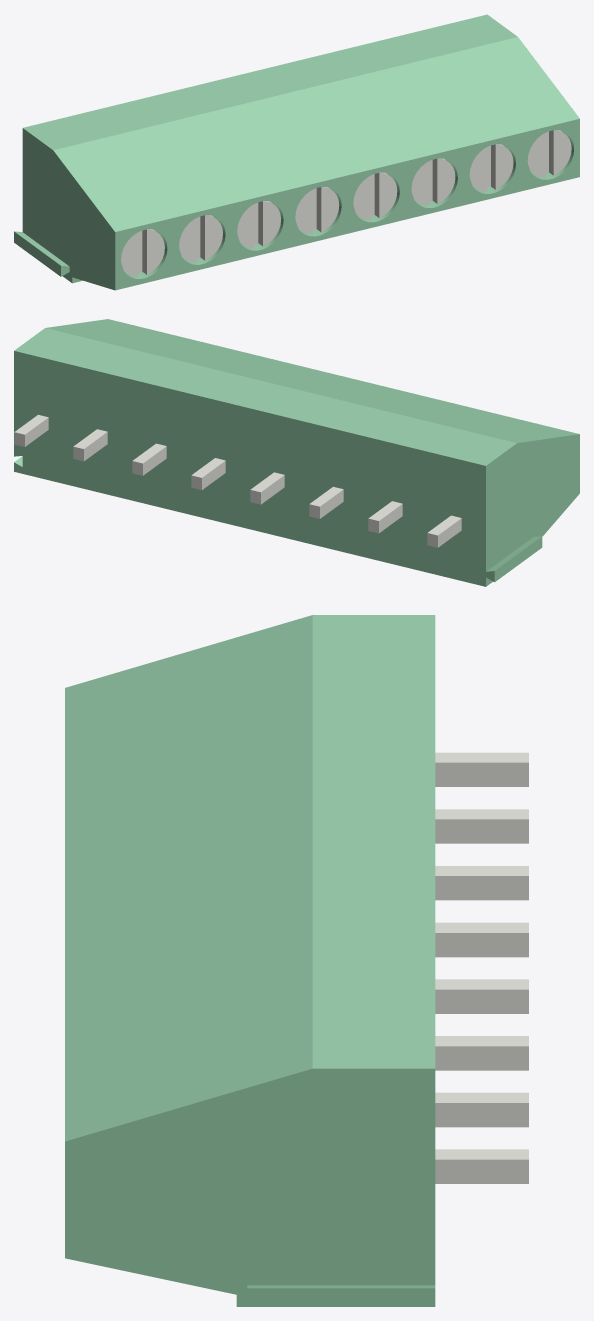
File: TerminalBlock_Phoenix_MKDS-1,5-8_1x08_P5.00mm_Horizontal.glb
3 views of the same model, one above another, from view 1: azimuth 30°, elevation 25°; view 2: azimuth 150°, elevation 25°; view 3: azimuth 270°, elevation 25° (orthographic). The views are drawn at different scales.
Parts seen in each view (by area): view 1: Shape_IndexedFaceSet.003, Shape_IndexedFaceSet.004, Shape_IndexedFaceSet.002, Shape_IndexedFaceSet, Shape_IndexedFaceSet.287, Shape_IndexedFaceSet.217, Shape_IndexedFaceSet.227, Shape_IndexedFaceSet.247, Shape_IndexedFaceSet.251, Shape_IndexedFaceSet.231, Shape_IndexedFaceSet.237, Shape_IndexedFaceSet.221 (+9 smaller); view 2: Shape_IndexedFaceSet.005, Shape_IndexedFaceSet.004, Shape_IndexedFaceSet.003, Shape_IndexedFaceSet, Shape_IndexedFaceSet.020; view 3: Shape_IndexedFaceSet.003, Shape_IndexedFaceSet.011, Shape_IndexedFaceSet.004, Shape_IndexedFaceSet.027, Shape_IndexedFaceSet.031, Shape_IndexedFaceSet.035, Shape_IndexedFaceSet.039, Shape_IndexedFaceSet.043, Shape_IndexedFaceSet.047, Shape_IndexedFaceSet.051, Shape_IndexedFaceSet.055, Shape_IndexedFaceSet.022 (+8 smaller).
Part boxes in pixels (x1,y1,x2,y2): Shape_IndexedFaceSet.003: (53, 37, 579, 231); Shape_IndexedFaceSet.004: (23, 14, 517, 150); Shape_IndexedFaceSet.002: (115, 119, 579, 290); Shape_IndexedFaceSet: (22, 128, 115, 290); Shape_IndexedFaceSet.287: (553, 130, 571, 175); Shape_IndexedFaceSet.217: (495, 144, 513, 189); Shape_IndexedFaceSet.227: (437, 158, 455, 203); Shape_IndexedFaceSet.247: (379, 173, 397, 217); Shape_IndexedFaceSet.251: (353, 175, 371, 220); Shape_IndexedFaceSet.231: (411, 161, 429, 205); Shape_IndexedFaceSet.237: (321, 187, 339, 231); Shape_IndexedFaceSet.221: (469, 147, 487, 191); Shape_IndexedFaceSet.005: (14, 351, 494, 586); Shape_IndexedFaceSet.004: (14, 328, 516, 465); Shape_IndexedFaceSet.003: (46, 319, 579, 442); Shape_IndexedFaceSet: (486, 434, 579, 586); Shape_IndexedFaceSet.020: (494, 536, 542, 581); Shape_IndexedFaceSet.003: (65, 615, 312, 1141); Shape_IndexedFaceSet.011: (65, 1068, 435, 1306); Shape_IndexedFaceSet.004: (312, 615, 435, 1068); Shape_IndexedFaceSet.027: (435, 933, 528, 957); Shape_IndexedFaceSet.031: (435, 989, 528, 1013); Shape_IndexedFaceSet.035: (435, 1046, 528, 1070); Shape_IndexedFaceSet.039: (435, 1159, 528, 1183); Shape_IndexedFaceSet.043: (435, 1103, 528, 1127); Shape_IndexedFaceSet.047: (435, 762, 528, 786); Shape_IndexedFaceSet.051: (435, 819, 528, 843); Shape_IndexedFaceSet.055: (435, 876, 528, 900); Shape_IndexedFaceSet.022: (247, 1277, 435, 1285).
Size of the model in its own units: 16.04 by 3.86 by 6.81.
